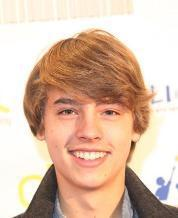face: (56, 99, 120, 166)
